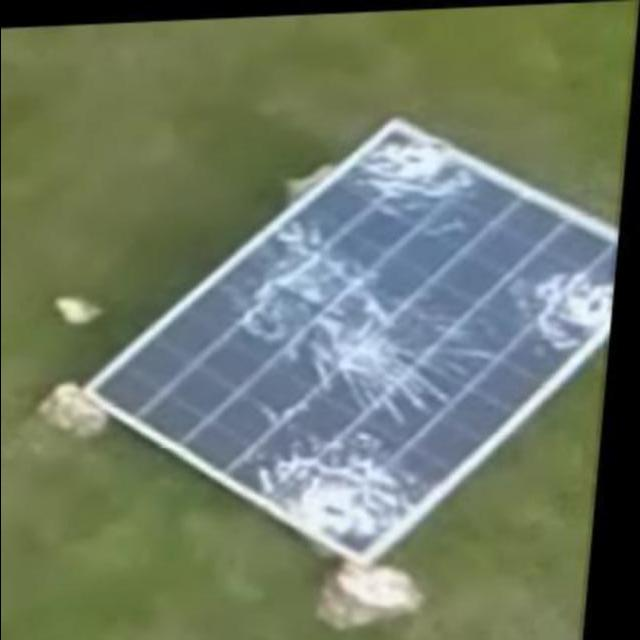cracked: (84, 111, 622, 572)
